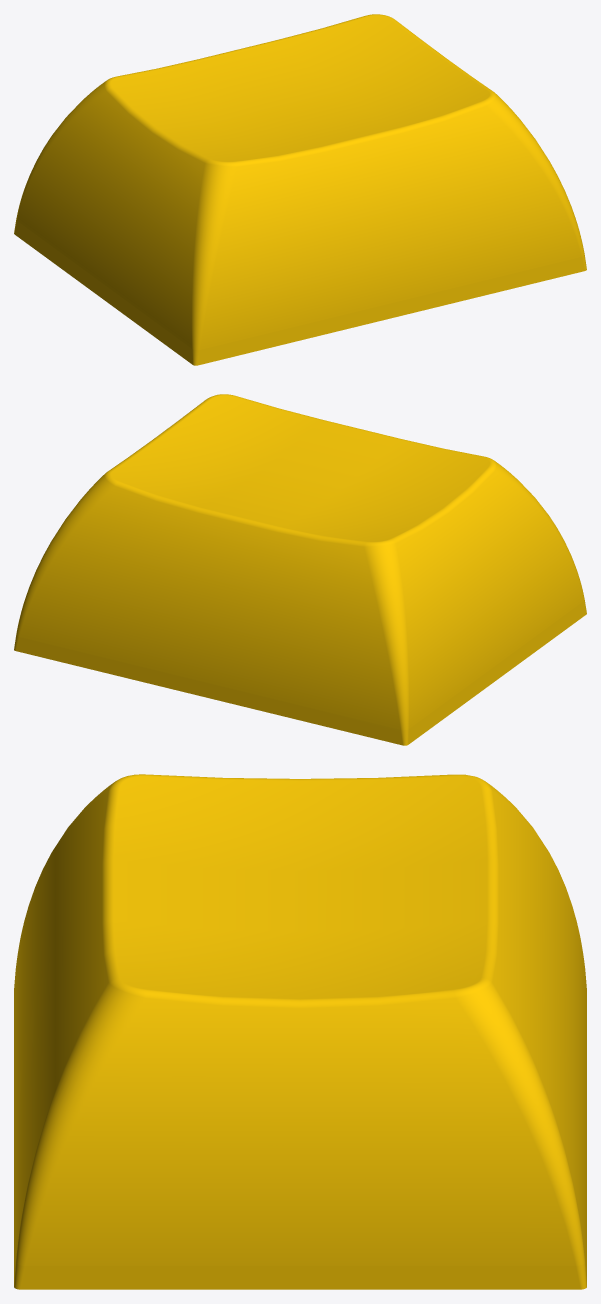
The picture shows the model from 3 angles, top to bottom: view 1: azimuth 30°, elevation 25°; view 2: azimuth 150°, elevation 25°; view 3: azimuth 270°, elevation 25°; orthographic projection. The views are drawn at different scales.
Visible parts, largest first — view 1: Body79; view 2: Body79; view 3: Body79.
Boxes of the visible parts, x1,y1,x2,y2 form: Body79: (14,14,586,365); Body79: (14,394,586,745); Body79: (14,774,586,1289).
Bounding box in the file's own units: 22.86 × 9.05 × 18.31.
